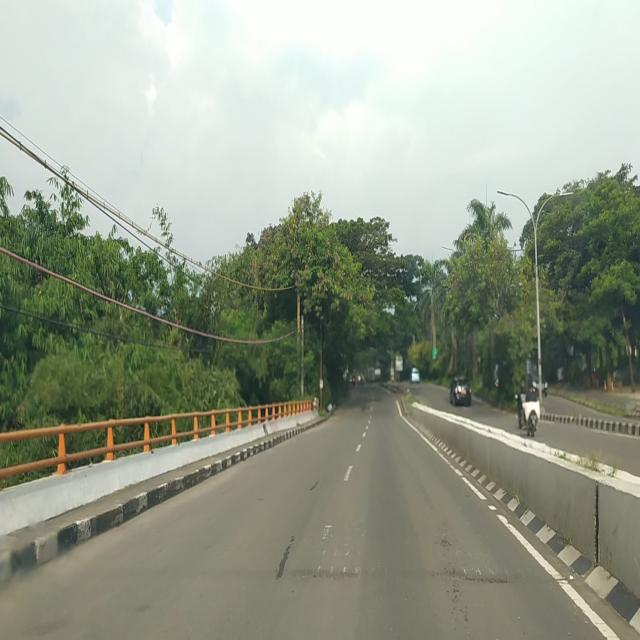Sewer Cover: (278, 559, 365, 586), (430, 564, 509, 590)
